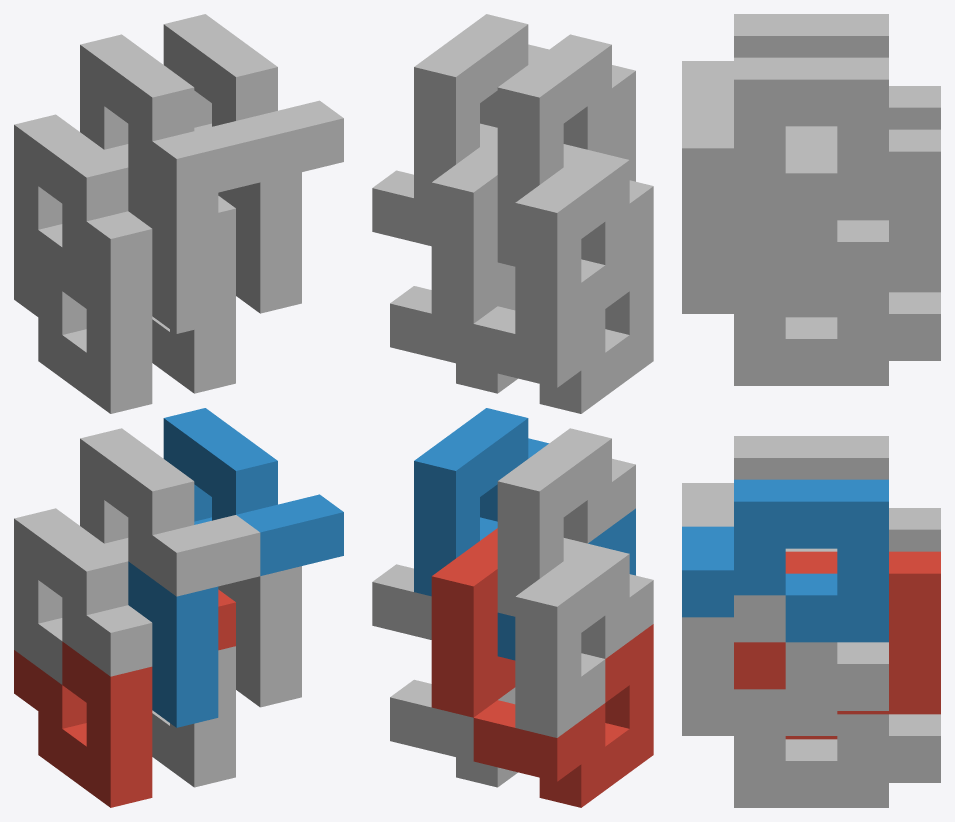
File: tiling.obj
3 renders of one model, left to right at view 1: azimuth 30°, elevation 25°; view 2: azimuth 150°, elevation 25°; view 3: azimuth 270°, elevation 25°, orthographic. The views are drawn at different scales.
Parts seen in each view (by area): view 1: copy_2_domain_2, copy_2_domain_4, copy_2_domain_3, copy_2_domain_1, copy_1_domain_1, copy_1_domain_3, copy_2_domain_6, copy_2_domain_8, copy_1_domain_4, copy_1_domain_2, copy_1_domain_8, copy_1_domain_6 (+4 smaller); view 2: copy_2_domain_1, copy_2_domain_3, copy_2_domain_2, copy_2_domain_4, copy_1_domain_3, copy_1_domain_1, copy_2_domain_6, copy_2_domain_8, copy_2_domain_5, copy_2_domain_7, copy_1_domain_5, copy_1_domain_7 (+4 smaller); view 3: copy_2_domain_6, copy_2_domain_8, copy_1_domain_6, copy_1_domain_8, copy_1_domain_5, copy_1_domain_7, copy_2_domain_5, copy_2_domain_7, copy_2_domain_4, copy_2_domain_2, copy_2_domain_1, copy_2_domain_3.
Boxes of the visible parts, x1,y1,x2,y2 form: copy_2_domain_2: [80, 428, 260, 596]; copy_2_domain_4: [80, 34, 260, 202]; copy_2_domain_3: [14, 114, 152, 290]; copy_2_domain_1: [14, 508, 152, 684]; copy_1_domain_1: [14, 641, 152, 807]; copy_1_domain_3: [14, 248, 152, 413]; copy_2_domain_6: [163, 408, 343, 575]; copy_2_domain_8: [163, 14, 343, 182]; copy_1_domain_4: [128, 167, 218, 333]; copy_1_domain_2: [128, 561, 218, 727]; copy_1_domain_8: [218, 172, 301, 313]; copy_1_domain_6: [218, 566, 301, 707]; copy_2_domain_1: [515, 543, 653, 737]; copy_2_domain_3: [515, 150, 653, 343]; copy_2_domain_2: [497, 428, 635, 616]; copy_2_domain_4: [497, 34, 635, 222]; copy_1_domain_3: [473, 230, 653, 413]; copy_1_domain_1: [473, 624, 653, 807]; copy_2_domain_6: [414, 408, 548, 596]; copy_2_domain_8: [414, 14, 548, 202]; copy_2_domain_5: [431, 528, 515, 717]; copy_2_domain_7: [431, 134, 515, 323]; copy_1_domain_5: [390, 679, 517, 787]; copy_1_domain_7: [390, 286, 517, 393]; copy_2_domain_6: [682, 479, 888, 642]; copy_2_domain_8: [682, 57, 888, 220]; copy_1_domain_6: [682, 595, 888, 735]; copy_1_domain_8: [682, 173, 888, 313]; copy_1_domain_5: [734, 714, 940, 807]; copy_1_domain_7: [734, 292, 940, 385]; copy_2_domain_5: [734, 551, 940, 714]; copy_2_domain_7: [734, 129, 940, 292]; copy_2_domain_4: [682, 14, 888, 129]; copy_2_domain_2: [682, 436, 888, 551]; copy_2_domain_1: [889, 508, 940, 551]; copy_2_domain_3: [889, 86, 940, 129].
Bounding box in the file's own units: 5 × 16 × 5.
